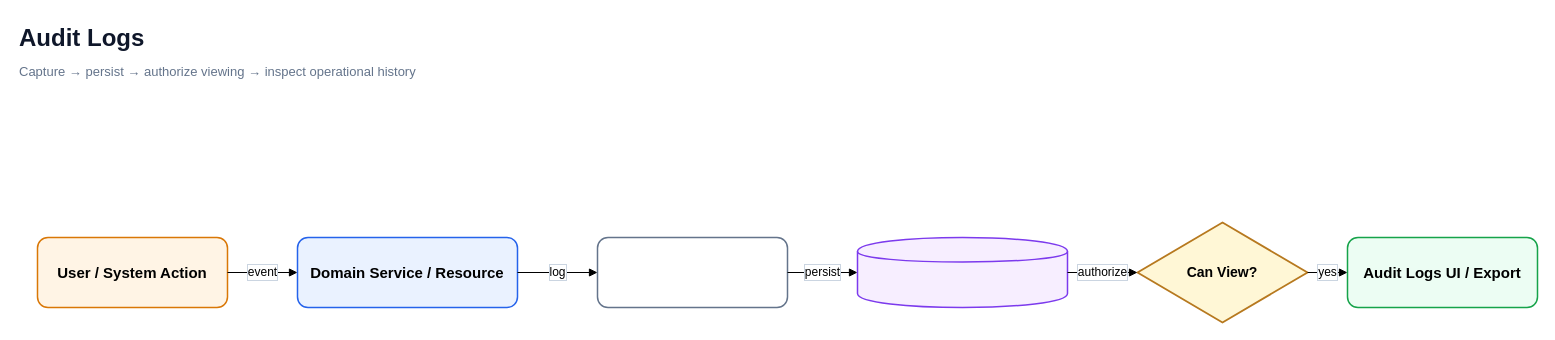
Image size: 1555x340. Some labels were removed from this diagram. The shapes that lost their labels are listed below. From the top down, each one's box as (x1, y1, x2, y2) in pixels, then its label:
(596, 236, 788, 308): Audit Logger
(856, 236, 1068, 308): Audit Log Records
